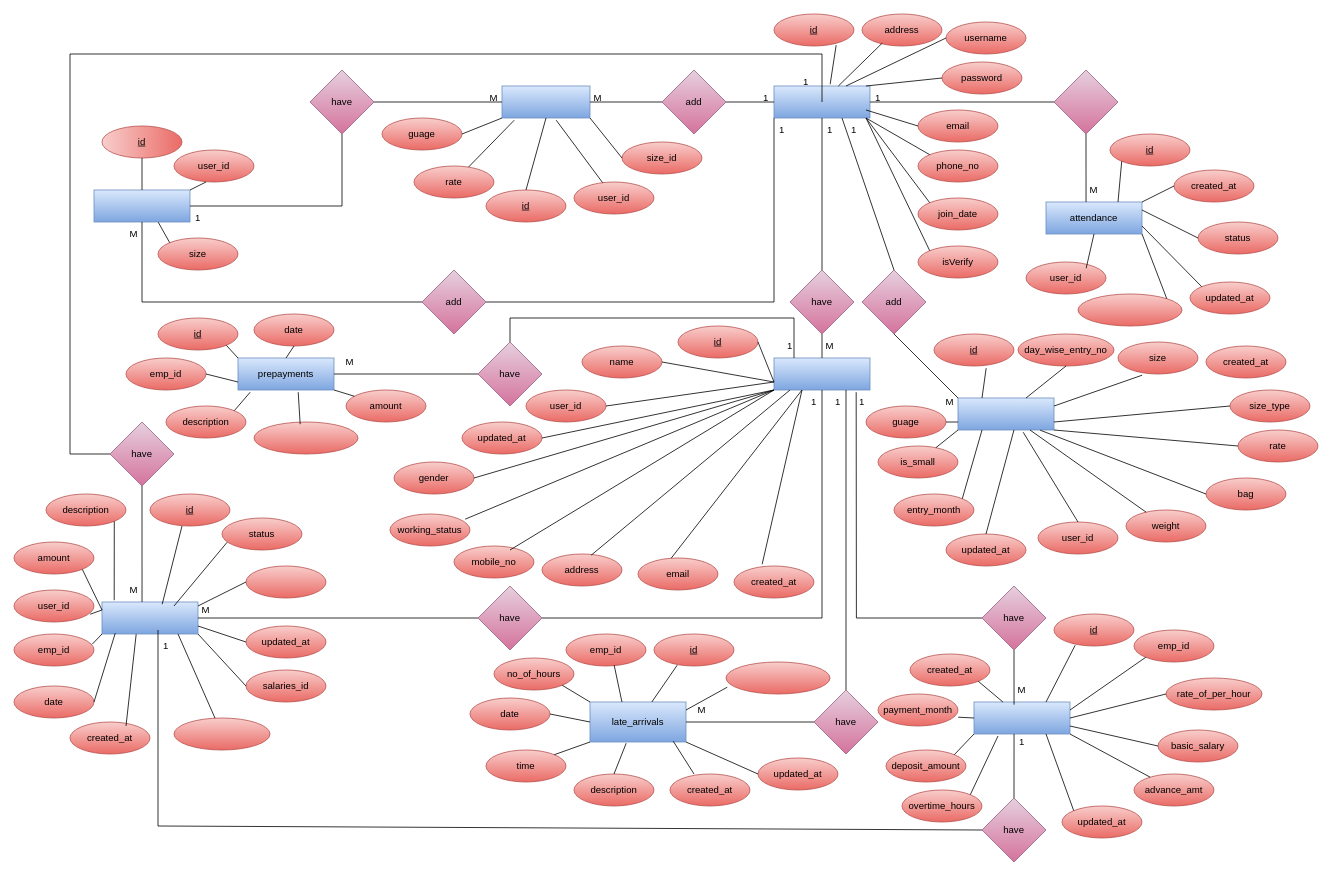
This 1332x876 diagram has some shape labels left out. Here are the shapes that lost their labels. From the top down, the box of each, then its label:
(501, 85, 590, 118): guage_rate
(773, 85, 870, 118): users
(1053, 69, 1118, 134): registers
(93, 189, 190, 222): sizes
(1077, 293, 1182, 326): attendance_date
(773, 357, 870, 390): employees
(957, 397, 1054, 430): stocks
(253, 421, 358, 454): emp_wise_entry_id
(245, 565, 326, 598): payment_state
(101, 601, 198, 634): vouchers
(725, 661, 830, 694): emp_wise_entry_no
(173, 717, 270, 750): receipt_voucher_no
(973, 701, 1070, 734): salaries
